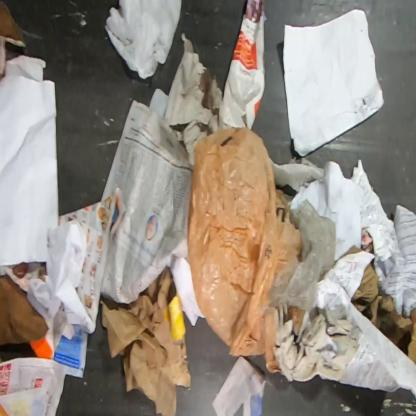cardboard: (351, 262, 413, 358), (0, 0, 27, 82), (407, 306, 415, 368), (339, 244, 366, 258)
soft_plastic: (187, 126, 303, 374), (262, 198, 337, 314), (104, 0, 183, 81), (287, 308, 305, 334)
